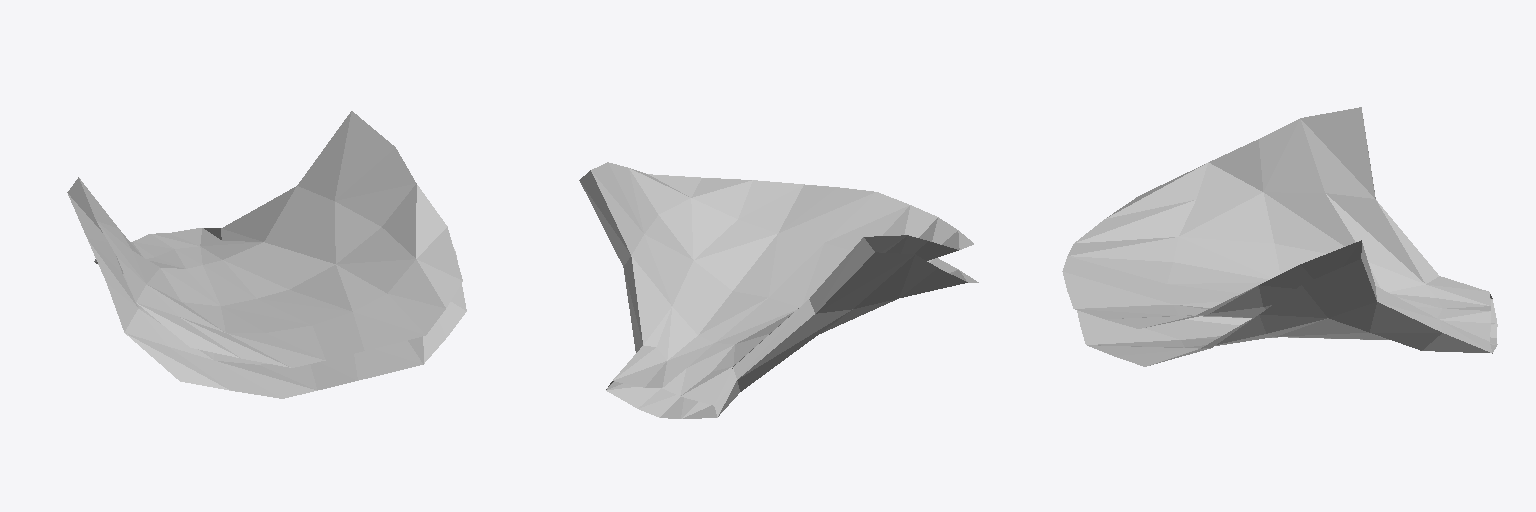
File: Mylohyoid_Muscle.obj
The picture shows the model from 3 angles: view 1: azimuth 30°, elevation 25°; view 2: azimuth 150°, elevation 25°; view 3: azimuth 270°, elevation 25°; orthographic projection.
Visible parts, largest first — view 1: Mylohyoid_Muscle_Mesh group1; view 2: Mylohyoid_Muscle_Mesh group1; view 3: Mylohyoid_Muscle_Mesh group1.
Part boxes in pixels (left/top/right/bottom): Mylohyoid_Muscle_Mesh group1: left=67, top=111, right=466, bottom=398; Mylohyoid_Muscle_Mesh group1: left=579, top=162, right=978, bottom=418; Mylohyoid_Muscle_Mesh group1: left=1062, top=107, right=1497, bottom=366.
Size of the model in its own units: 0.4968 by 0.2356 by 0.5644.